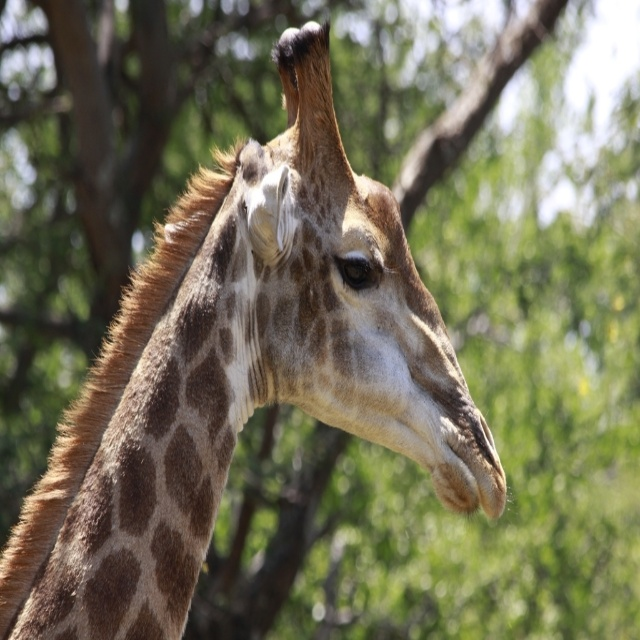Giraffe: (0, 19, 511, 639)
